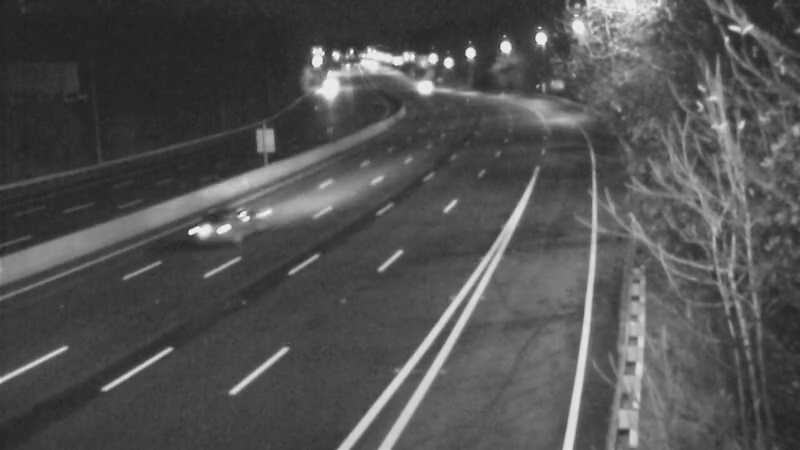vehicle: (178, 174, 258, 254), (391, 63, 441, 113), (309, 61, 359, 111)
